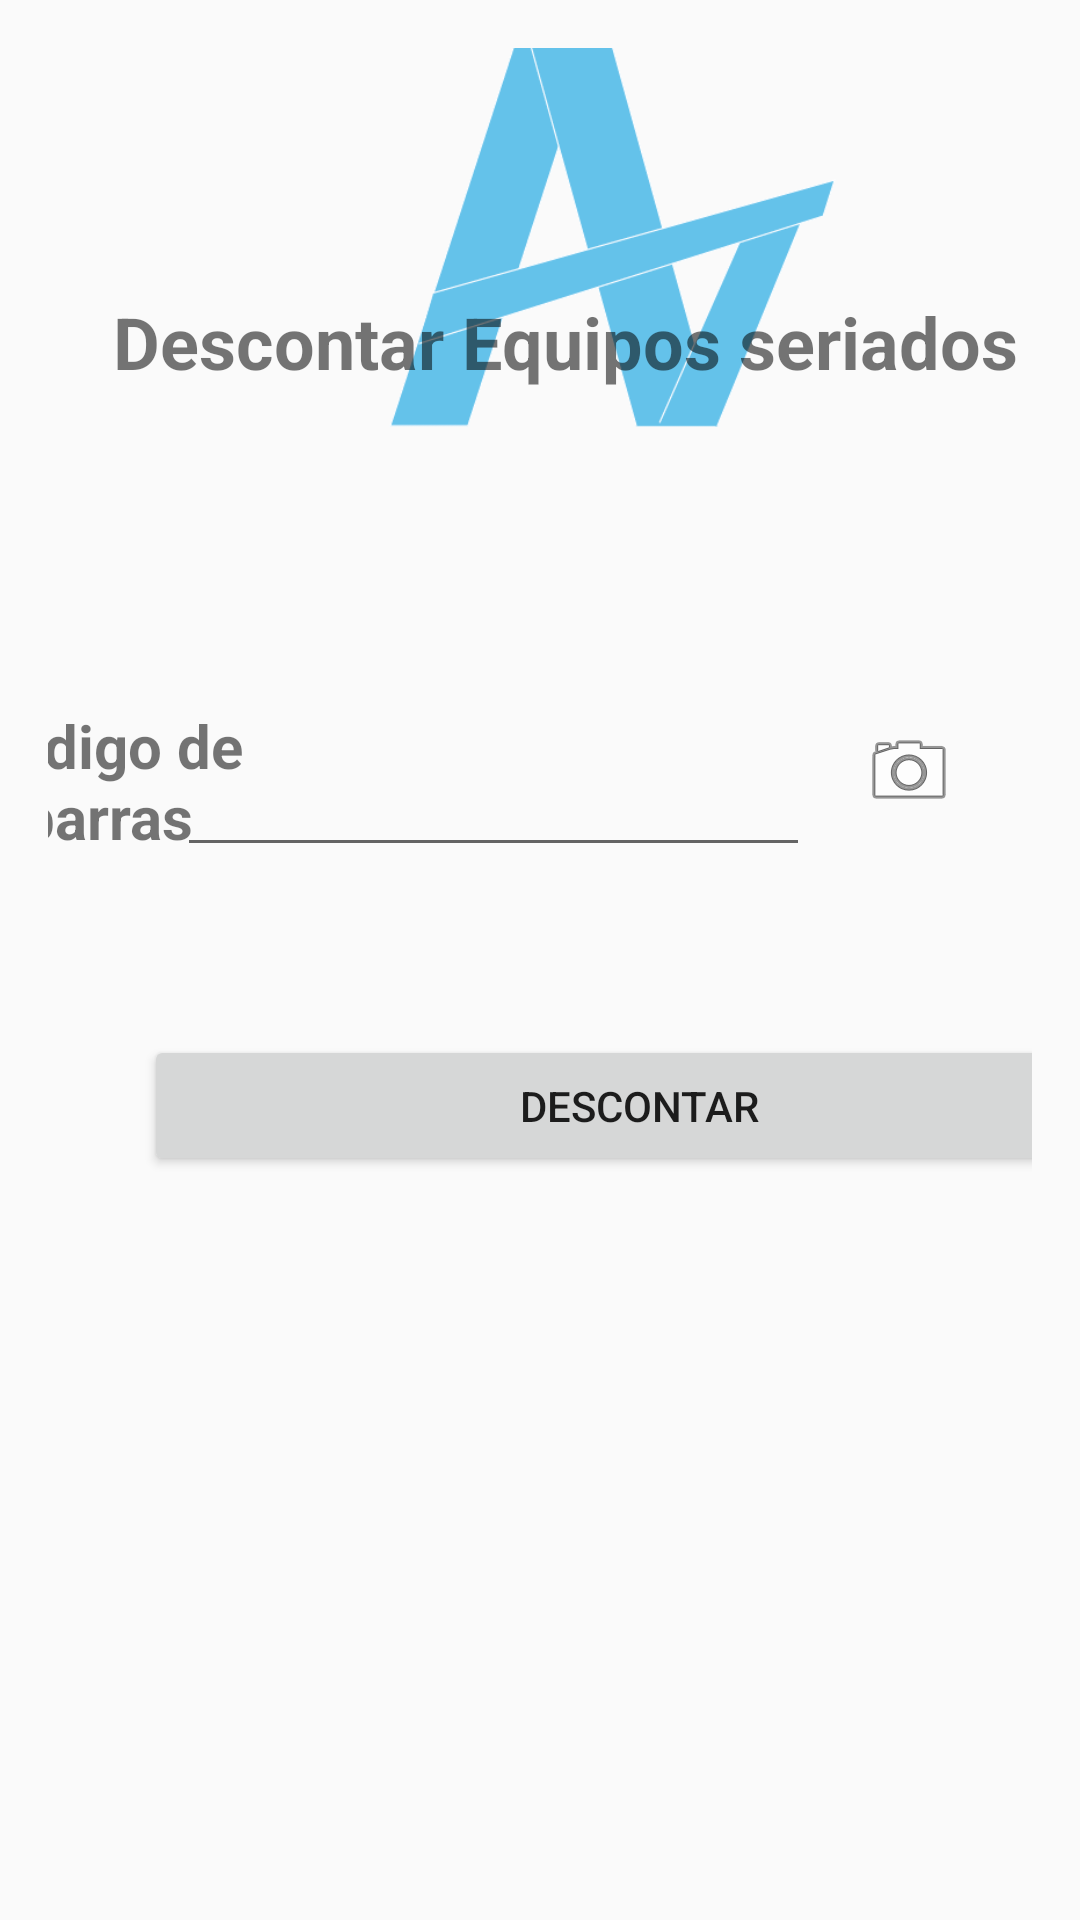

Icon bounding boxes for this 1080x1920 phone screenshot, format (left=x1, top=y1, right=x2, bottom=y2):
camera: (left=872, top=740, right=946, bottom=799)
